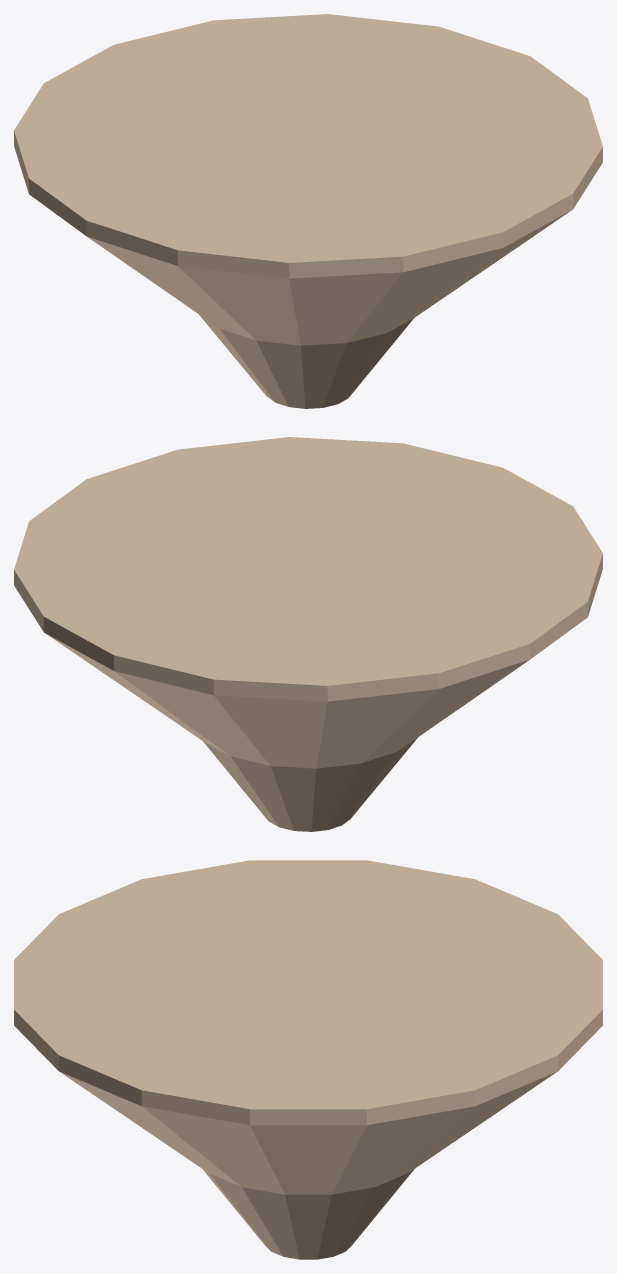
Rendered from engine collider.obj.
3 renders of one model, top to bottom at view 1: azimuth 30°, elevation 25°; view 2: azimuth 150°, elevation 25°; view 3: azimuth 270°, elevation 25°, orthographic.
Visible parts, largest first — view 1: 1, 2; view 2: 1, 2; view 3: 1, 2.
Part boxes in pixels (x1,y1,x2,y2): 1: (14,14,602,345); 2: (199,314,413,408); 1: (14,437,602,768); 2: (203,737,417,831); 1: (14,860,602,1194); 2: (202,1169,414,1259).
Bounding box in the file's own units: 1.25 × 0.6 × 1.25.
